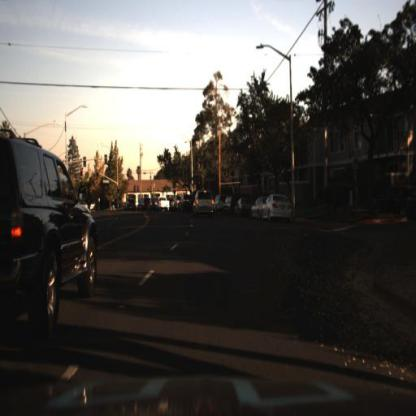car: (1, 134, 97, 321), (261, 191, 296, 228), (191, 186, 216, 217), (237, 196, 257, 221), (120, 194, 140, 217), (145, 196, 166, 217), (224, 195, 238, 221), (249, 197, 264, 221), (213, 193, 225, 218), (159, 195, 173, 216), (181, 192, 193, 215), (239, 196, 252, 217), (172, 193, 183, 211)
trafficLight-Red: (78, 163, 86, 179), (96, 166, 104, 180), (116, 184, 121, 196)
